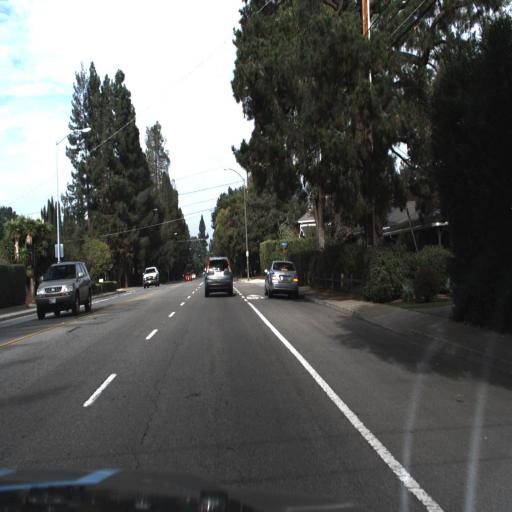car: (35, 260, 93, 322), (197, 249, 238, 309), (260, 256, 300, 304), (138, 257, 160, 294)
